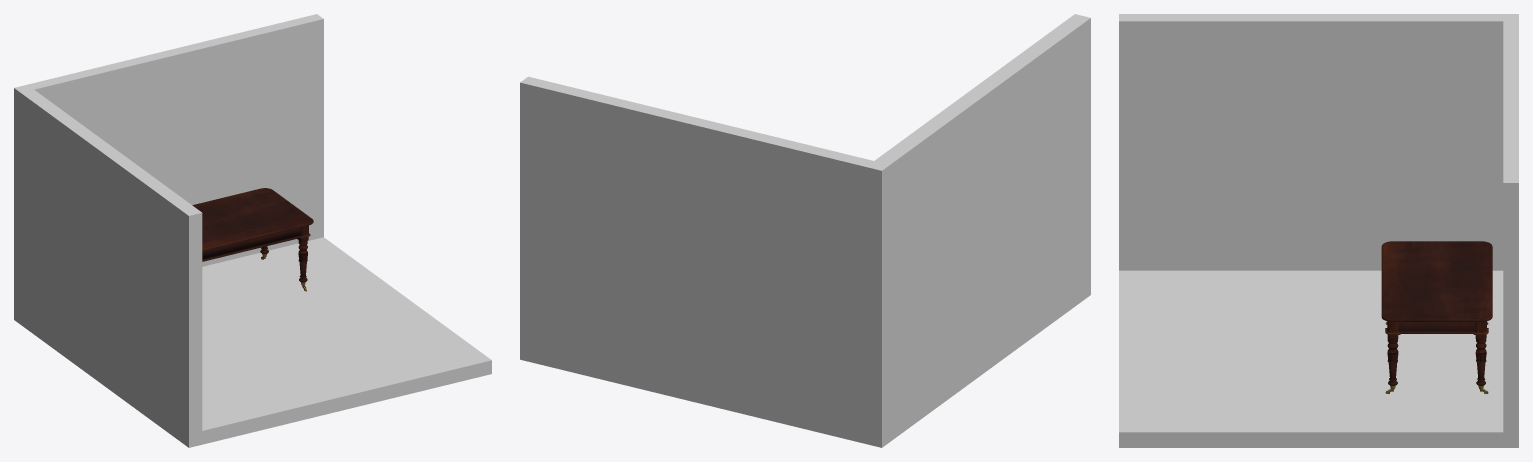
3 renders of one model, left to right at view 1: azimuth 30°, elevation 25°; view 2: azimuth 150°, elevation 25°; view 3: azimuth 270°, elevation 25°, orthographic. The views are drawn at different scales.
Parts seen in each view (by area): view 1: Cube, Table Top, Legs and Rails; view 2: Cube; view 3: Cube, Table Top, Legs and Rails.
Boxes of the visible parts, x1=… form: Cube: x1=14, y1=14, x2=491, y2=447; Table Top: x1=192, y1=188, x2=313, y2=251; Legs and Rails: x1=202, y1=225, x2=310, y2=282; Cube: x1=520, y1=14, x2=1090, y2=447; Cube: x1=1119, y1=14, x2=1518, y2=447; Table Top: x1=1381, y1=241, x2=1492, y2=321; Legs and Rails: x1=1385, y1=321, x2=1488, y2=385.
Size of the model in its own units: 10 by 7.32 by 10.
Materials: 3 (3 with a texture image).
